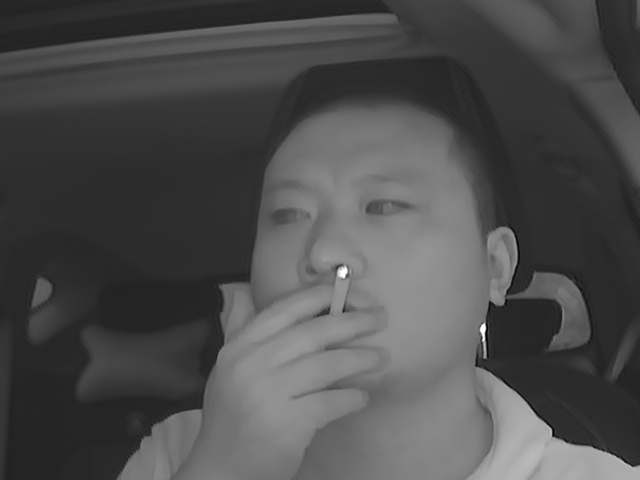hand: (240, 277, 396, 444)
